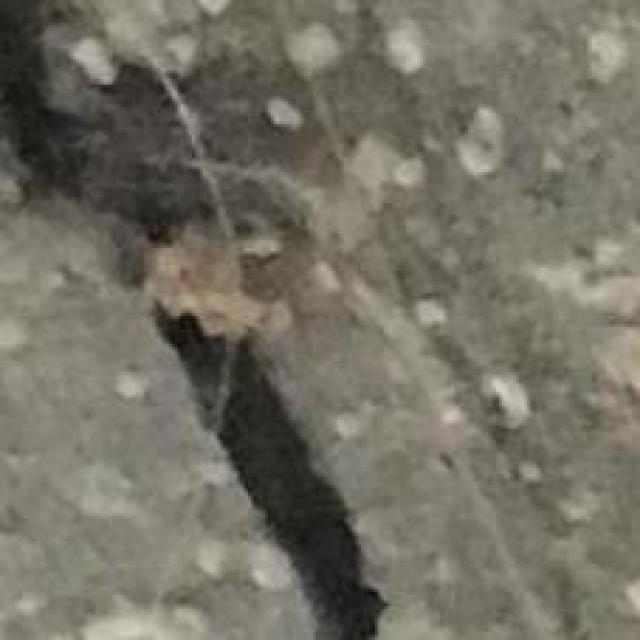Crack: (0, 0, 386, 637)
